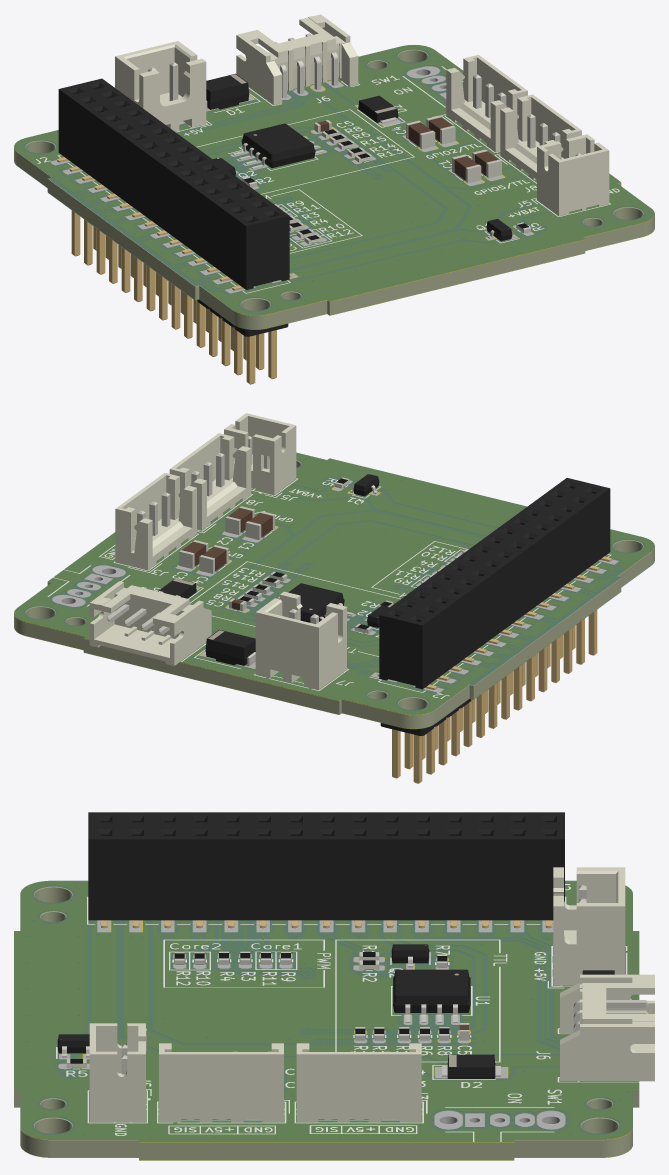
The model's file is board.glb.
3 renders of one model, top to bottom at view 1: azimuth 30°, elevation 25°; view 2: azimuth 150°, elevation 25°; view 3: azimuth 270°, elevation 25°, orthographic. The views are drawn at different scales.
Parts seen in each view (by area): view 1: board_soldermask (×2), board_copper, PinSocket_2x15_P2.54mm_Vertical_SMD, board_PCB, JST_B3B_EH_A (×2), PinHeader_2x15_P254mm_Vertical_SMD, JST_S4B_PH_K, JST_B2B_XH_A, JST_B2B_PH_K, board_silkscreen, board_pad, SO_8_53x62mm_P127mm (+3 smaller); view 2: board_soldermask (×2), board_copper, PinSocket_2x15_P2.54mm_Vertical_SMD, board_PCB, JST_B3B_EH_A (×2), PinHeader_2x15_P254mm_Vertical_SMD, JST_S4B_PH_K, JST_B2B_XH_A, JST_B2B_PH_K, board_silkscreen, board_pad, C_1206_3216Metric (×4) (+2 smaller); view 3: board_soldermask (×2), board_copper, PinSocket_2x15_P2.54mm_Vertical_SMD, board_PCB, JST_B3B_EH_A (×2), JST_S4B_PH_K, board_silkscreen, JST_B2B_XH_A, JST_B2B_PH_K, board_pad, SO_8_53x62mm_P127mm, SOT-23 (×2) (+1 smaller).
Part boxes in pixels (bbox=[...]): board_soldermask (×2): bbox=[14, 44, 654, 329]; board_copper: bbox=[15, 45, 653, 329]; PinSocket_2x15_P2.54mm_Vertical_SMD: bbox=[57, 78, 291, 290]; board_PCB: bbox=[14, 49, 654, 329]; JST_B3B_EH_A (×2): bbox=[446, 55, 581, 179]; PinHeader_2x15_P254mm_Vertical_SMD: bbox=[71, 210, 288, 384]; JST_S4B_PH_K: bbox=[236, 14, 358, 104]; JST_B2B_XH_A: bbox=[115, 41, 206, 131]; JST_B2B_PH_K: bbox=[537, 134, 609, 215]; board_silkscreen: bbox=[36, 66, 619, 293]; board_pad: bbox=[50, 66, 533, 293]; SO_8_53x62mm_P127mm: bbox=[232, 123, 324, 169]; board_soldermask (×2): bbox=[14, 452, 654, 729]; board_copper: bbox=[15, 453, 653, 728]; PinSocket_2x15_P2.54mm_Vertical_SMD: bbox=[377, 478, 611, 689]; board_PCB: bbox=[14, 460, 654, 728]; JST_B3B_EH_A (×2): bbox=[115, 433, 251, 569]; PinHeader_2x15_P254mm_Vertical_SMD: bbox=[380, 610, 597, 783]; JST_S4B_PH_K: bbox=[89, 581, 211, 665]; JST_B2B_XH_A: bbox=[255, 591, 346, 689]; JST_B2B_PH_K: bbox=[224, 413, 296, 494]; board_silkscreen: bbox=[47, 478, 611, 698]; board_pad: bbox=[52, 480, 618, 692]; C_1206_3216Metric (×4): bbox=[179, 506, 274, 573]; board_soldermask (×2): bbox=[14, 880, 639, 1160]; board_copper: bbox=[15, 882, 638, 1160]; PinSocket_2x15_P2.54mm_Vertical_SMD: bbox=[88, 812, 564, 928]; board_PCB: bbox=[14, 886, 639, 1159]; JST_B3B_EH_A (×2): bbox=[159, 1043, 421, 1122]; JST_S4B_PH_K: bbox=[560, 974, 654, 1081]; board_silkscreen: bbox=[56, 884, 638, 1141]; JST_B2B_XH_A: bbox=[553, 867, 625, 985]; JST_B2B_PH_K: bbox=[89, 1023, 146, 1122]; board_pad: bbox=[59, 920, 564, 1129]; SO_8_53x62mm_P127mm: bbox=[393, 969, 470, 1022]; SOT-23 (×2): bbox=[57, 944, 429, 1057].
Size of the model in its own units: 0.05 by 0.0184 by 0.0513.
